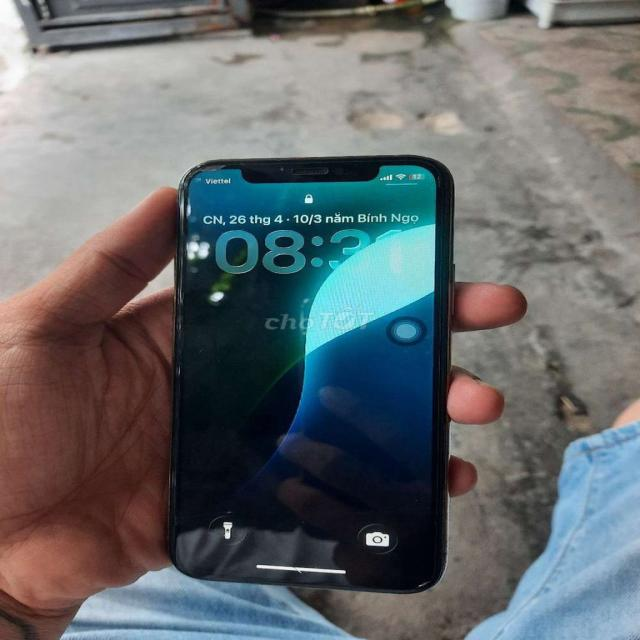scratch: (169, 156, 227, 190), (164, 281, 187, 329), (158, 457, 182, 491), (408, 574, 435, 591), (168, 358, 182, 379)
